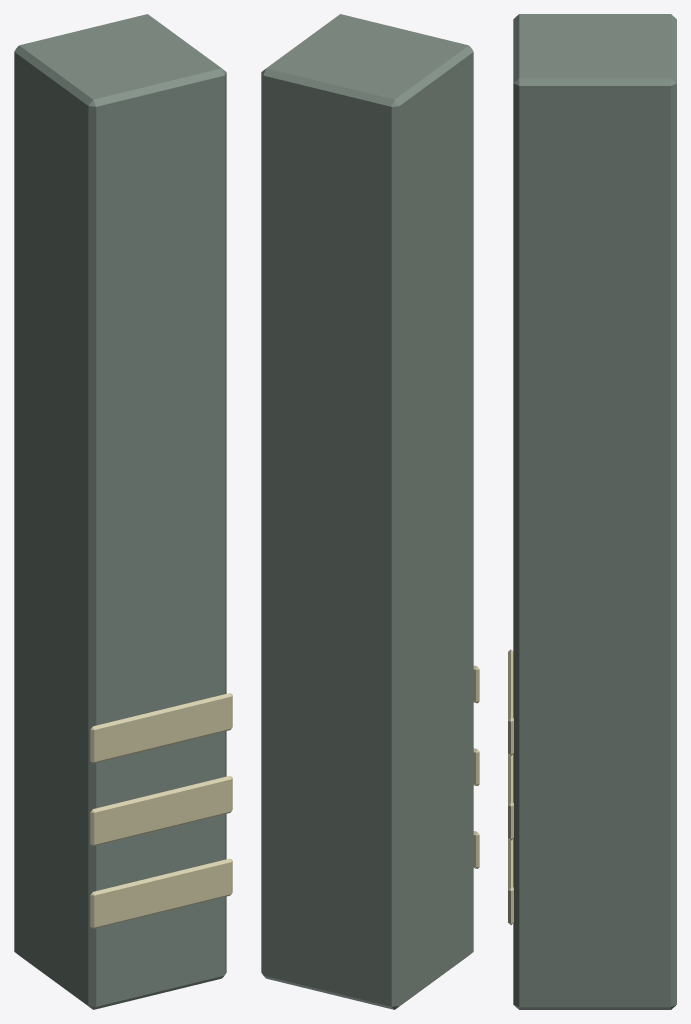
The model's file is garage_column.glb.
3 views of the same model, side by side, from view 1: azimuth 30°, elevation 25°; view 2: azimuth 150°, elevation 25°; view 3: azimuth 270°, elevation 25° (orthographic). The views are drawn at different scales.
Parts seen in each view (by area): view 1: garage_column.001; view 2: garage_column.001; view 3: garage_column.001.
Boxes of the visible parts, left/top/right/bottom form: garage_column.001: left=14, top=14, right=232, bottom=1009; garage_column.001: left=261, top=14, right=479, bottom=1009; garage_column.001: left=508, top=14, right=676, bottom=1009.
Size of the model in its own units: 0.72 by 4.4 by 0.7225.
